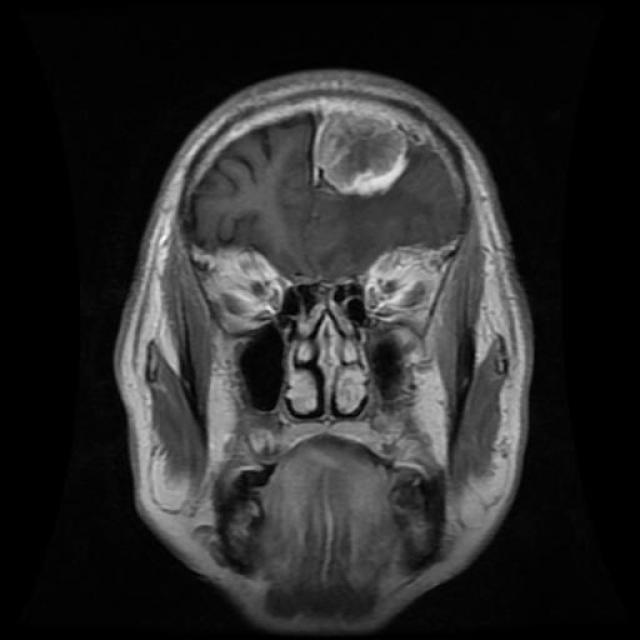meningioma: (318, 111, 409, 195)
